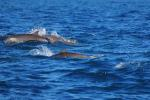fish: (5, 28, 50, 45), (51, 45, 97, 61)
